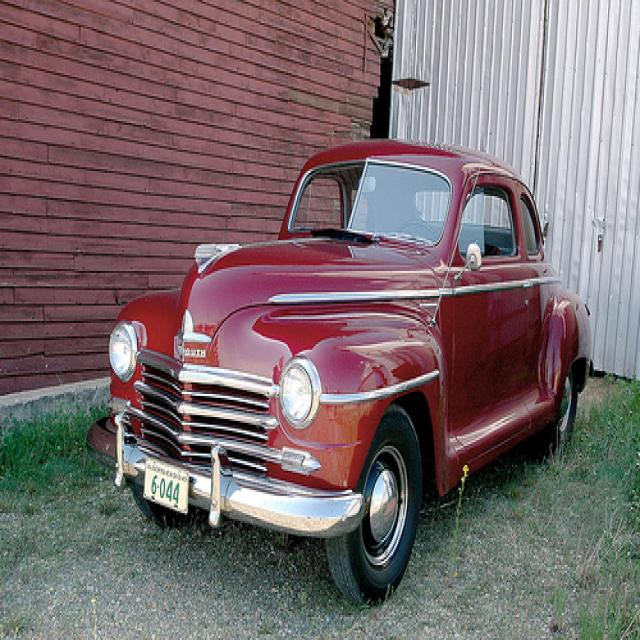Car: (78, 135, 602, 600)
